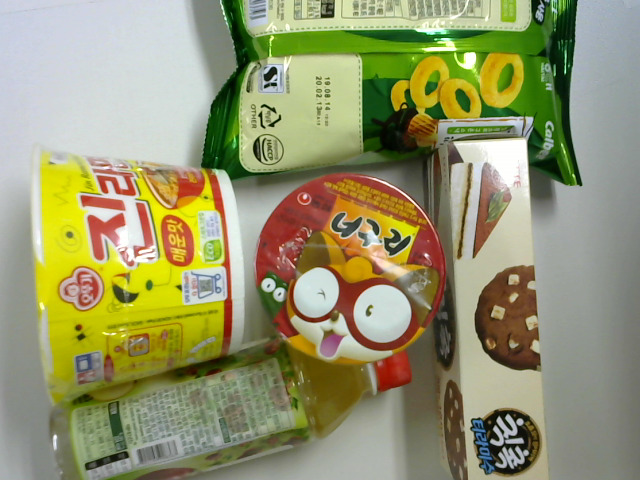Chicchok_Tiramisu: (425, 119, 561, 480)
Grilled_Onions: (186, 1, 590, 203)
Jinlamyeon_Hot_Taste_Large_Cup: (17, 136, 251, 405)
Morning_Apple_500ml: (46, 347, 420, 480)
Raccoon: (254, 172, 451, 373)
